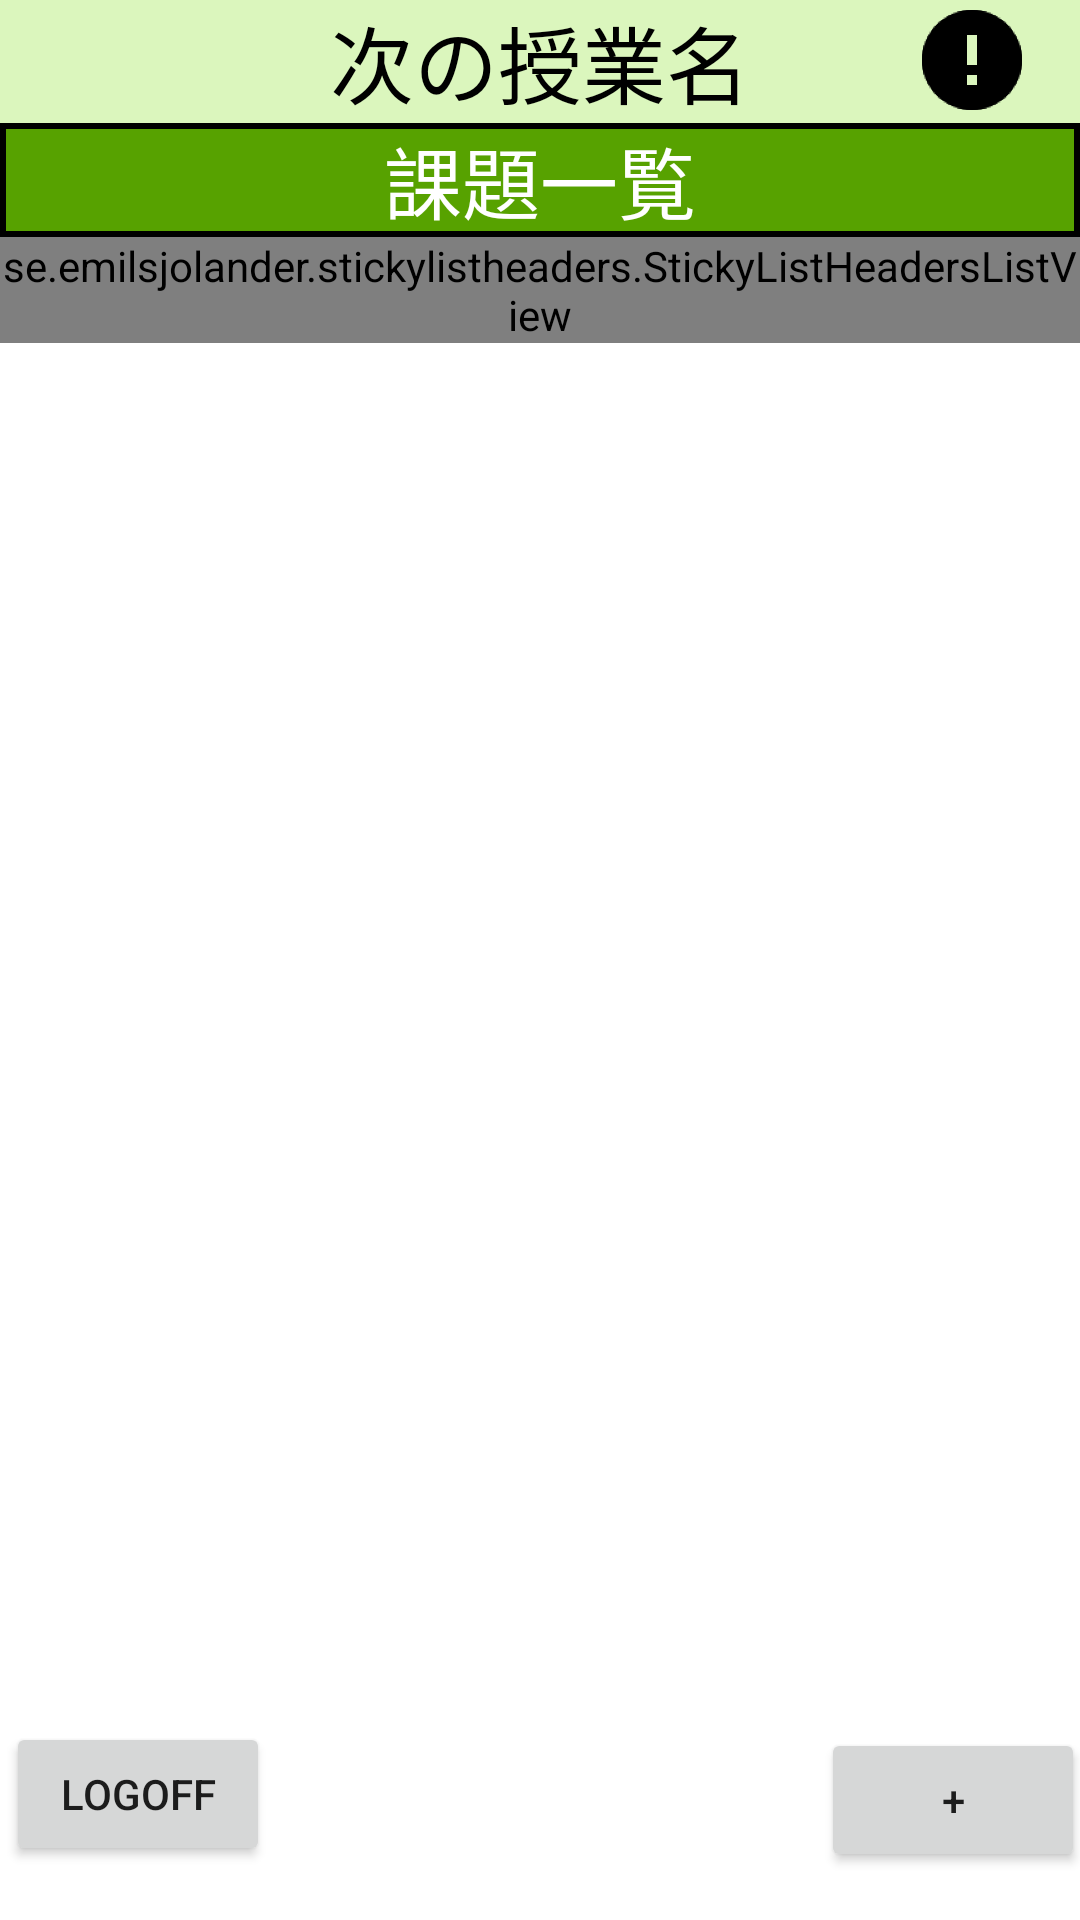

Named icons in this screenshot (1080w x 1920h) and their bounding boxes, (x1, y1, x2, y2):
exclamation: (922, 10, 1022, 110)
